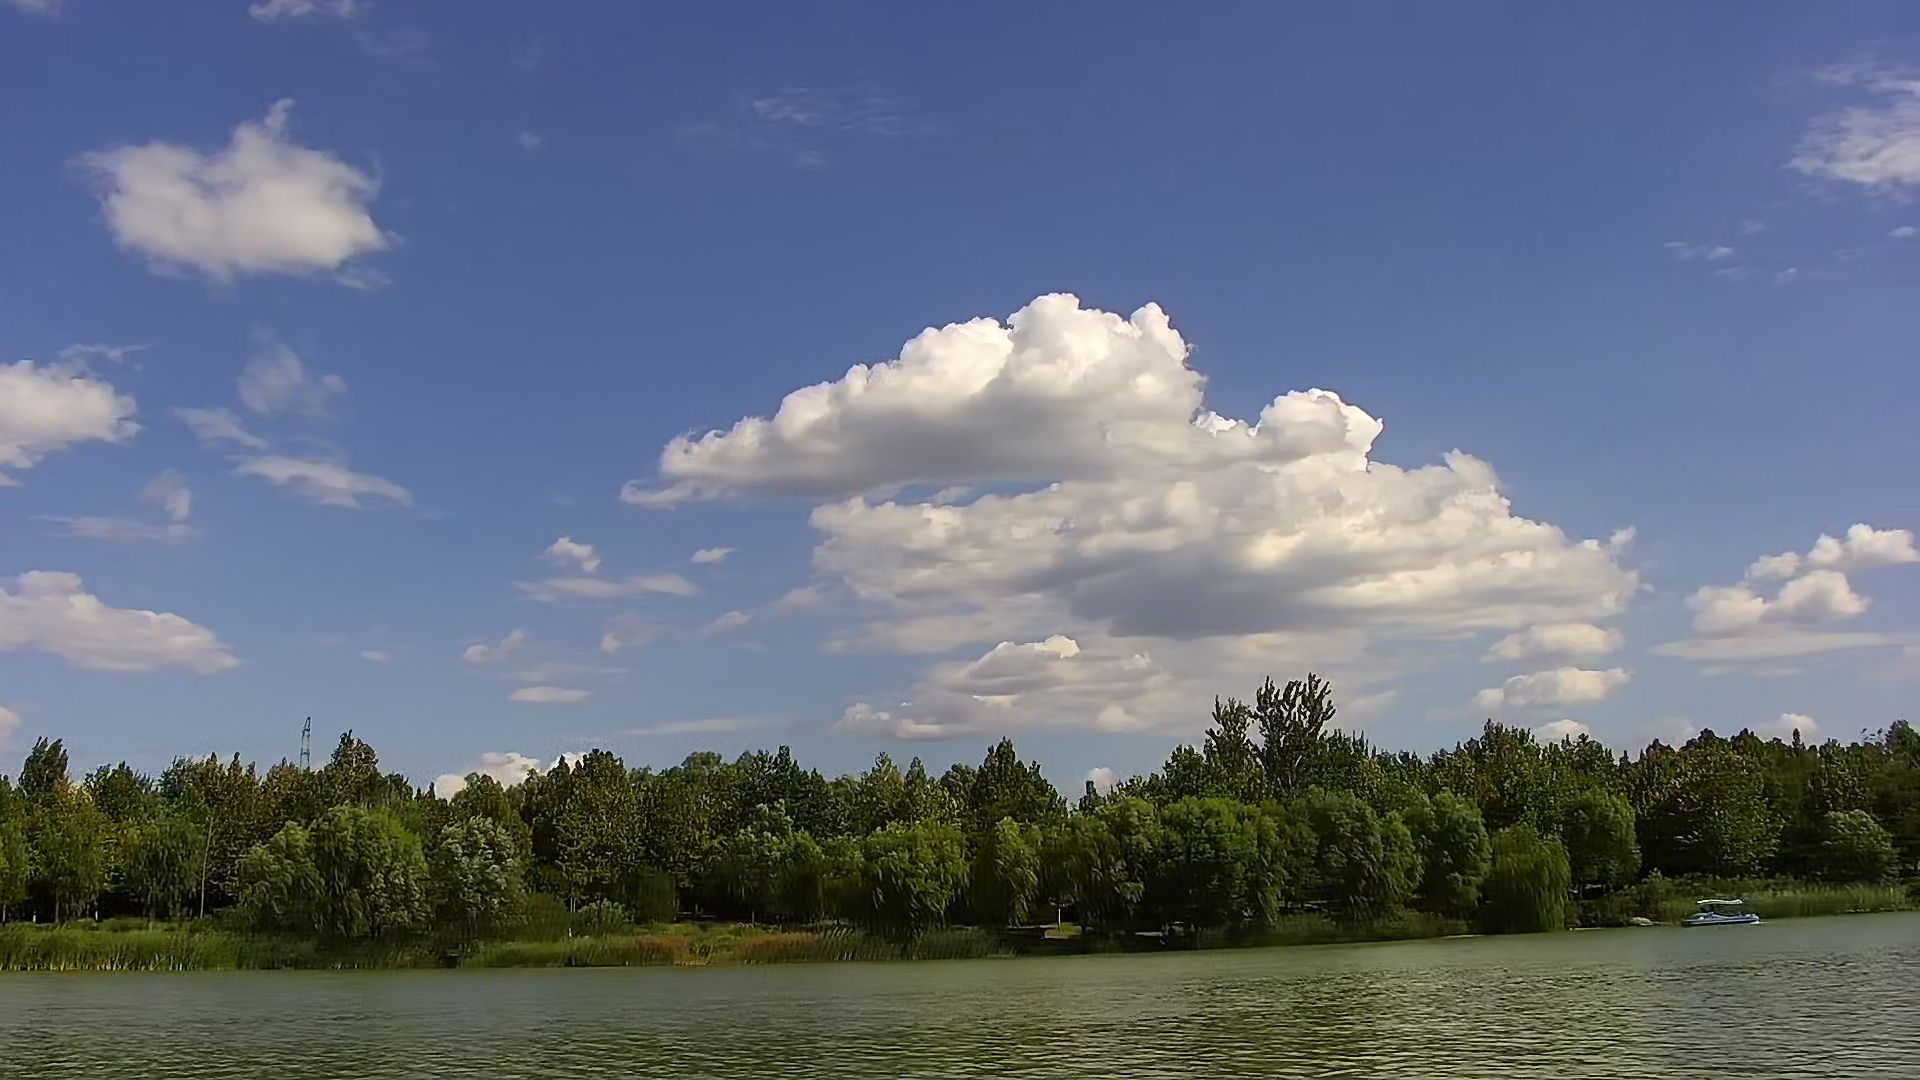boat: (1681, 895, 1764, 934)
